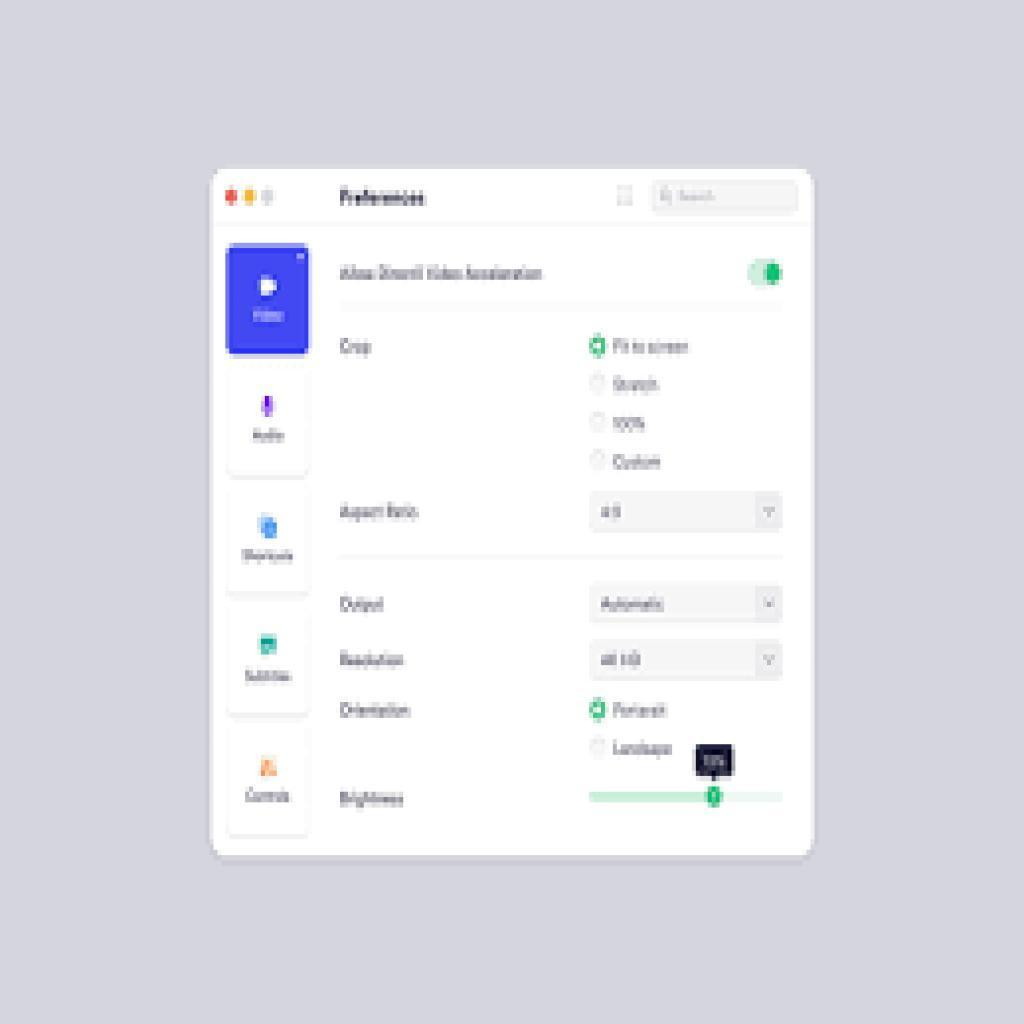dropdown: (593, 640, 786, 683), (592, 494, 785, 532), (594, 586, 784, 624), (1020, 583, 1021, 584)
input: (654, 182, 801, 214)
label: (335, 500, 426, 527), (337, 697, 420, 725), (335, 647, 413, 674), (612, 337, 697, 357), (337, 592, 393, 620), (612, 738, 676, 762), (340, 791, 408, 813), (612, 371, 665, 396), (610, 451, 663, 475), (611, 702, 670, 721), (611, 410, 649, 435), (335, 335, 374, 358)
radio: (588, 697, 609, 724), (590, 334, 609, 358), (590, 735, 612, 755), (588, 371, 607, 392), (591, 410, 606, 434), (591, 451, 608, 470)
slider: (588, 784, 784, 811)
switch: (747, 260, 785, 290)
